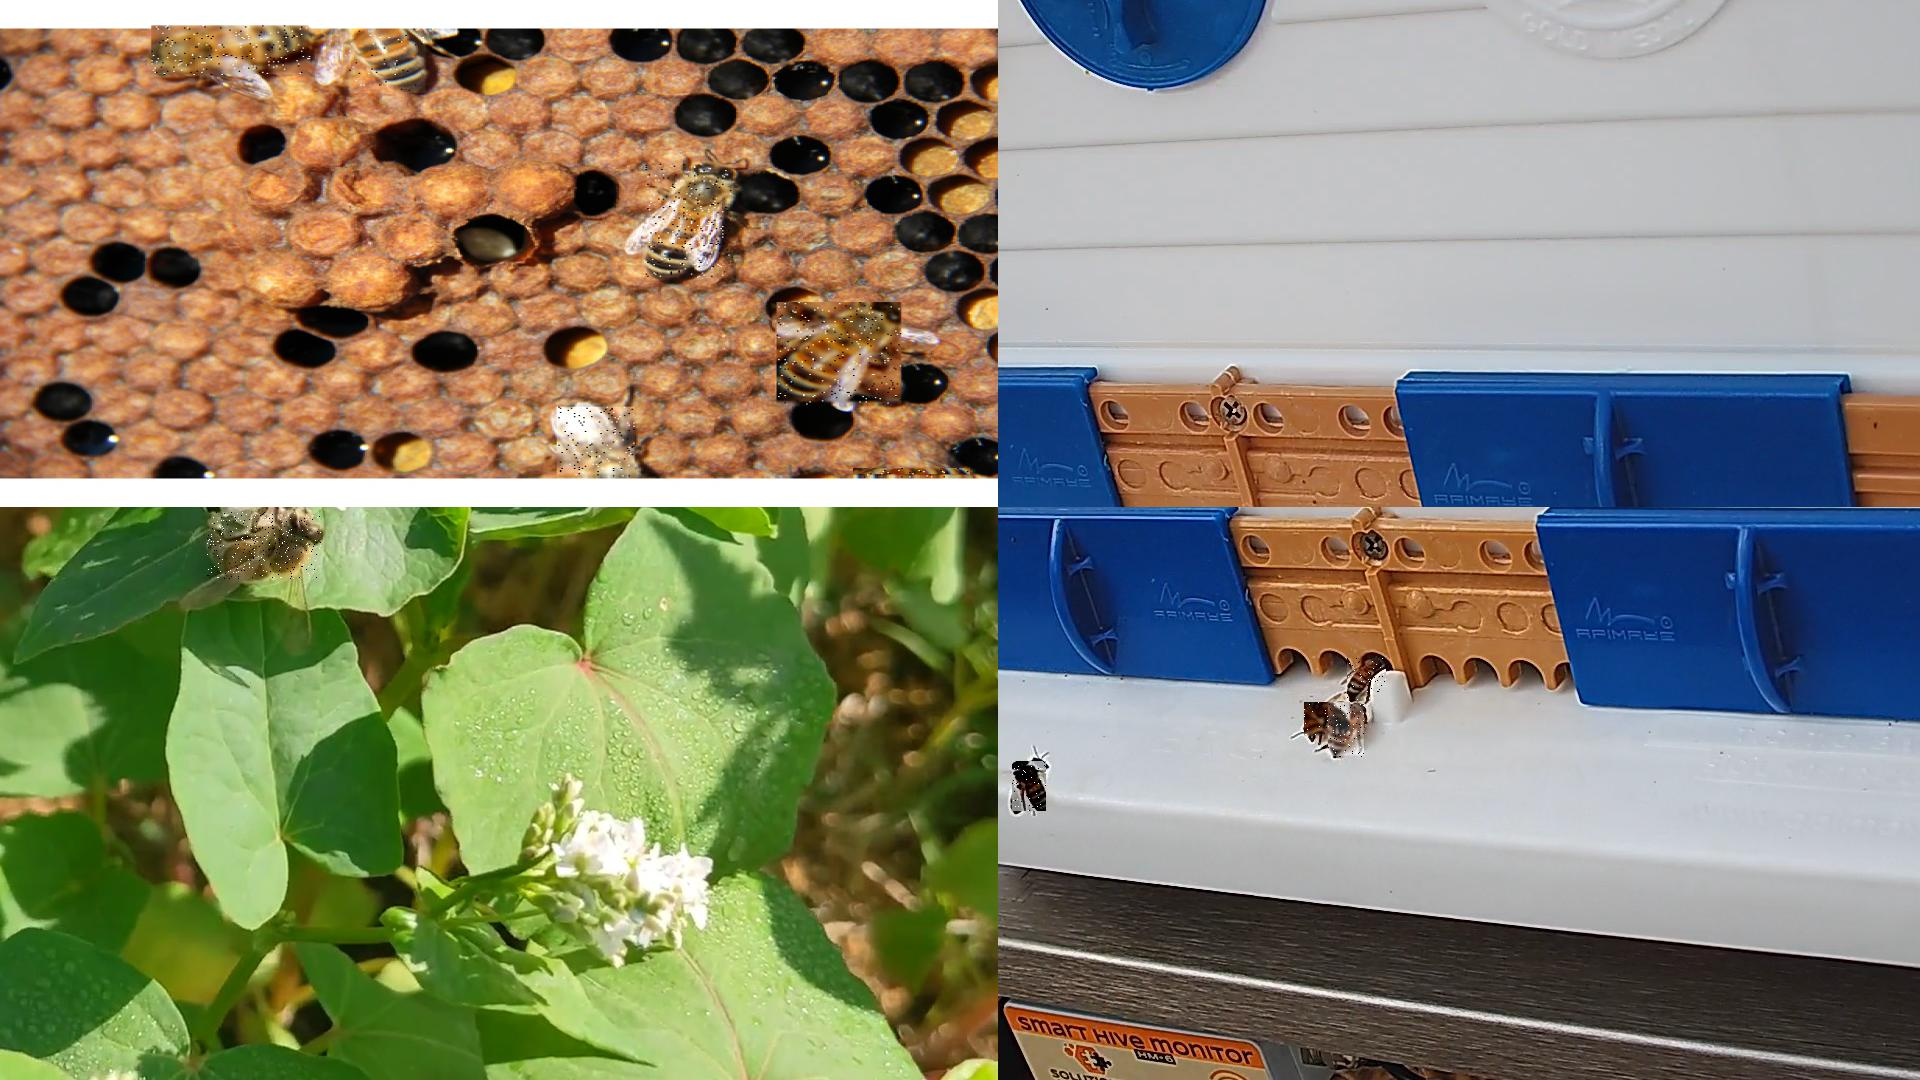bee: (777, 303, 903, 406), (646, 164, 735, 280), (153, 26, 314, 76), (207, 512, 322, 580), (558, 407, 637, 479), (349, 29, 427, 94), (1328, 705, 1365, 758), (1013, 761, 1047, 812), (1304, 703, 1352, 738), (1348, 659, 1387, 702), (853, 468, 972, 479)
